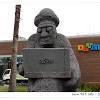Stone Statue: (18, 5, 83, 93)
